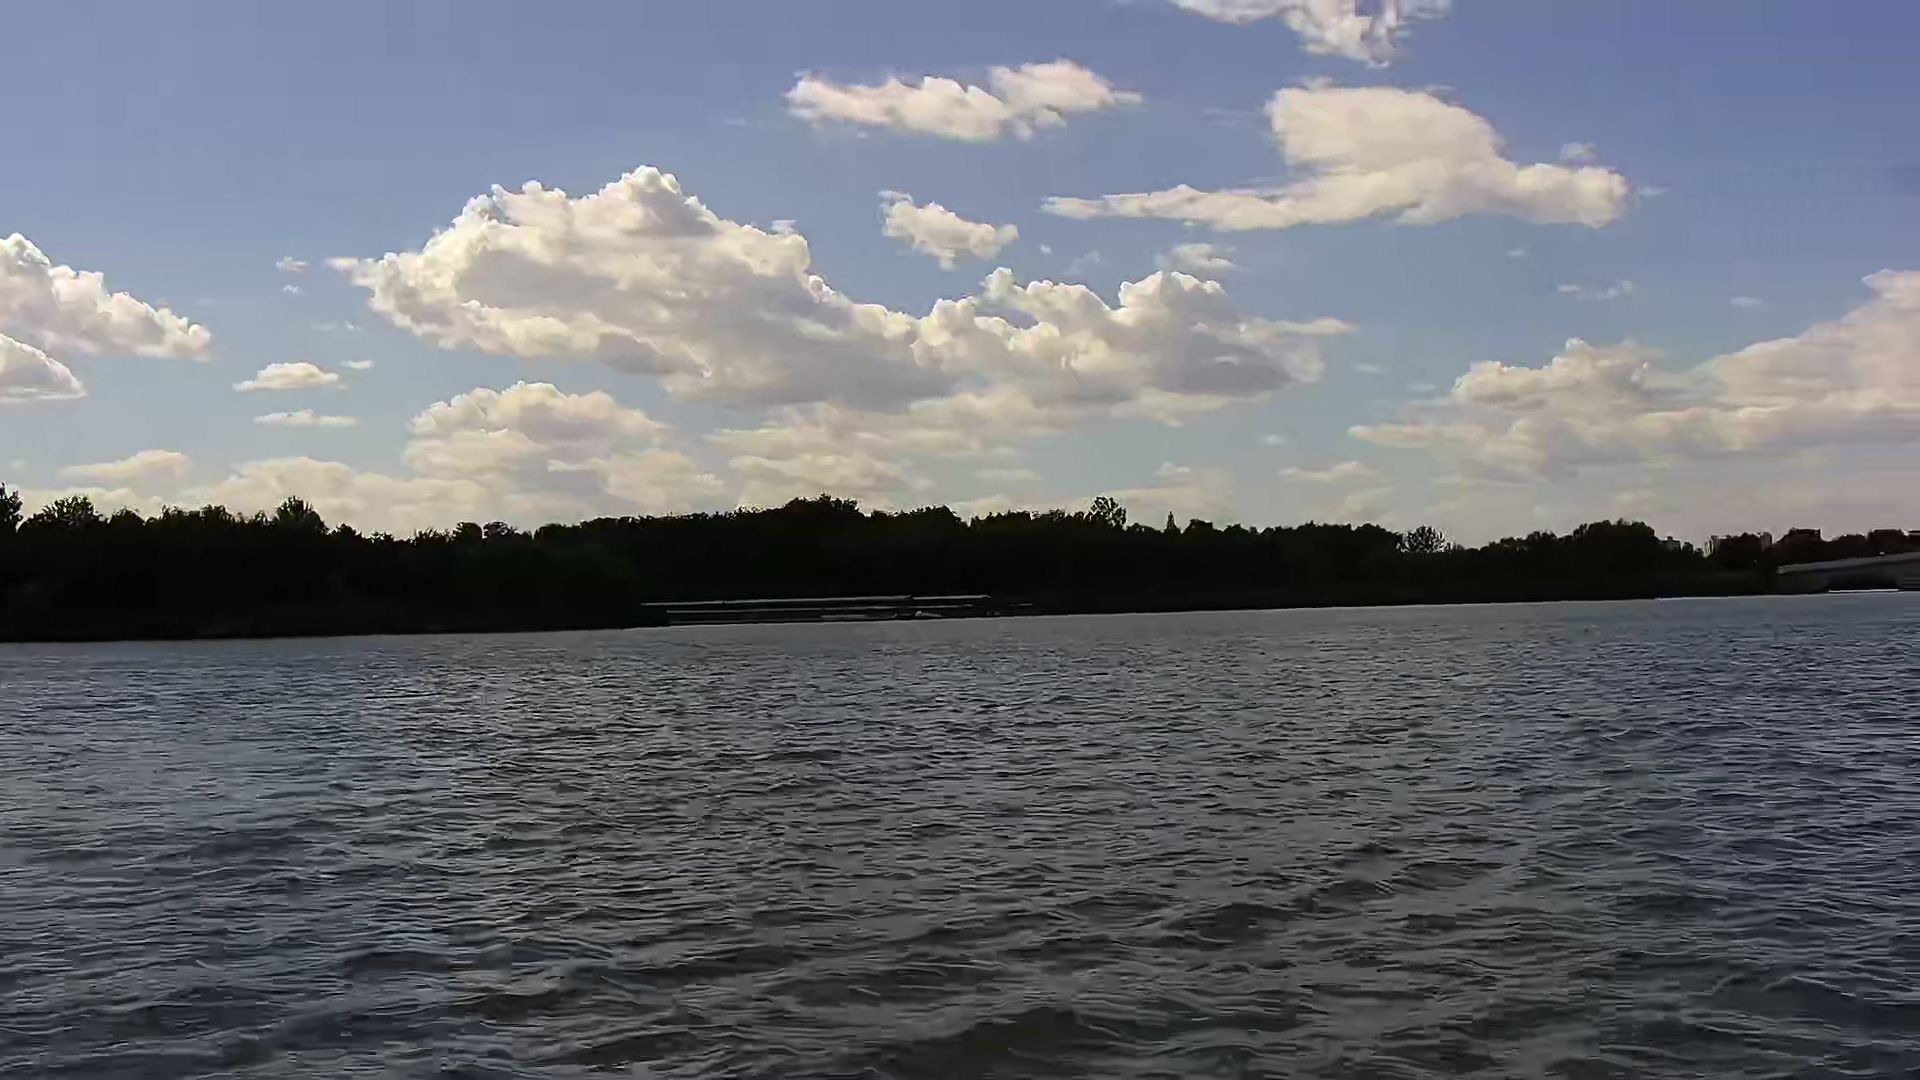bridge: (1791, 543, 1920, 589)
harbor: (658, 597, 1001, 622)
